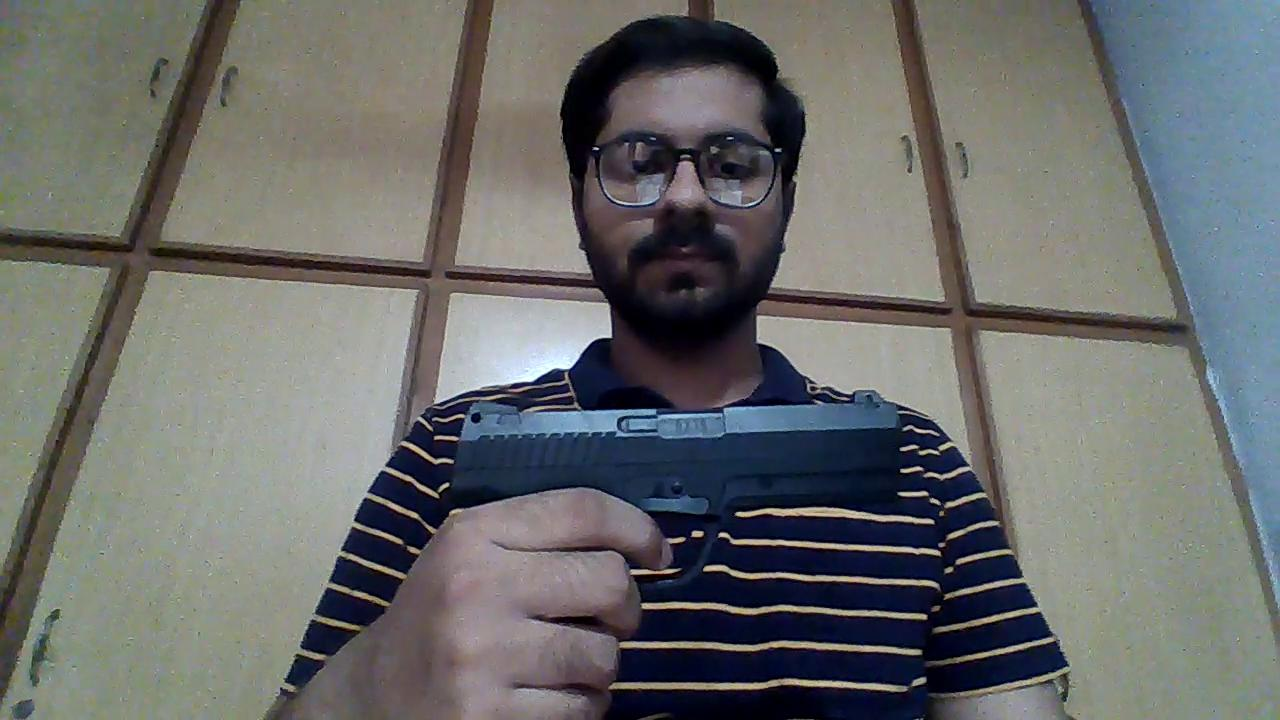criminal: (260, 15, 1075, 720)
weapon: (453, 389, 909, 587)
